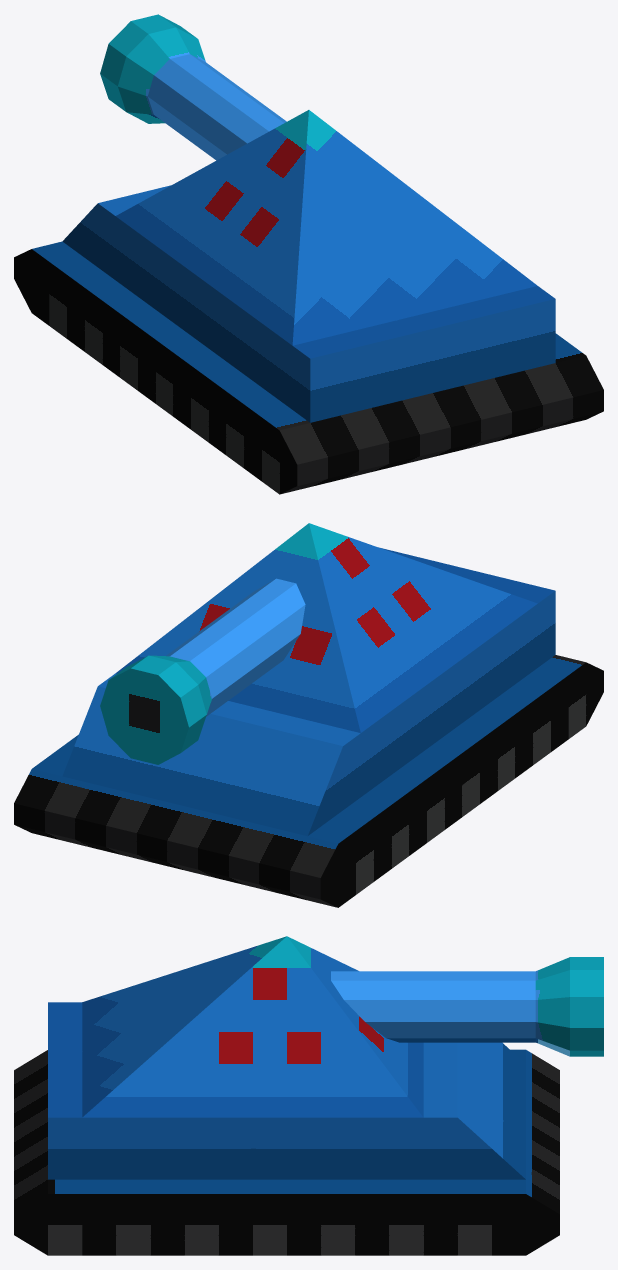
Rendered from tank.gltf.
3 views of the same model, one above another, from view 1: azimuth 30°, elevation 25°; view 2: azimuth 150°, elevation 25°; view 3: azimuth 270°, elevation 25° (orthographic). The views are drawn at different scales.
Visible parts, largest first — view 1: head, treads, body, gun; view 2: treads, body, head, gun; view 3: treads, head, body, gun.
Boxes of the visible parts, left/top/right/bottom form: head: left=116, top=110, right=537, bottom=345; treads: left=14, top=241, right=603, bottom=494; body: left=62, top=185, right=555, bottom=422; gun: left=100, top=14, right=286, bottom=160; treads: left=14, top=655, right=603, bottom=907; body: left=62, top=547, right=555, bottom=836; head: left=116, top=523, right=537, bottom=732; gun: left=100, top=578, right=305, bottom=764; treads: left=14, top=1049, right=559, bottom=1255; head: left=82, top=936, right=423, bottom=1117; body: left=48, top=1002, right=525, bottom=1179; gun: left=331, top=957, right=603, bottom=1056.
Bounding box in the file's own units: 0.625 × 0.5 × 1.08.
Materials: 1 (1 with a texture image).
